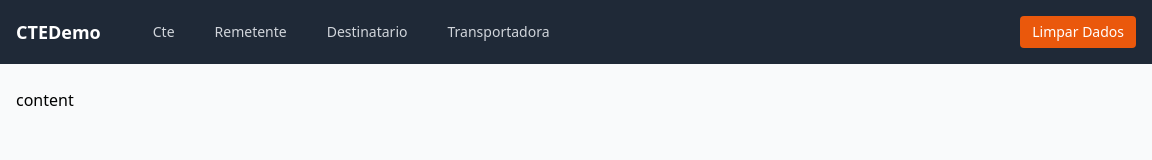
Test case: Reset Button › shows success feedback after reset
Click the button "Limpar Dados": click(1078, 32) [1020, 16, 1136, 48]
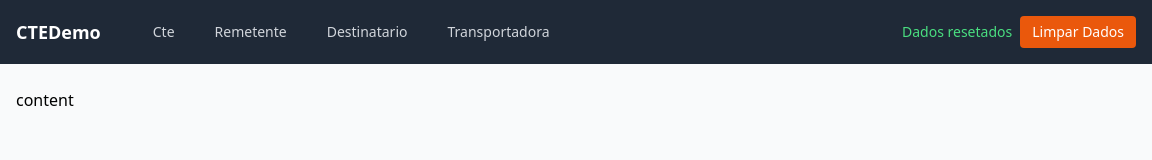
Expected: the text "Dados resetados" is shown, [902, 22, 1012, 42]
